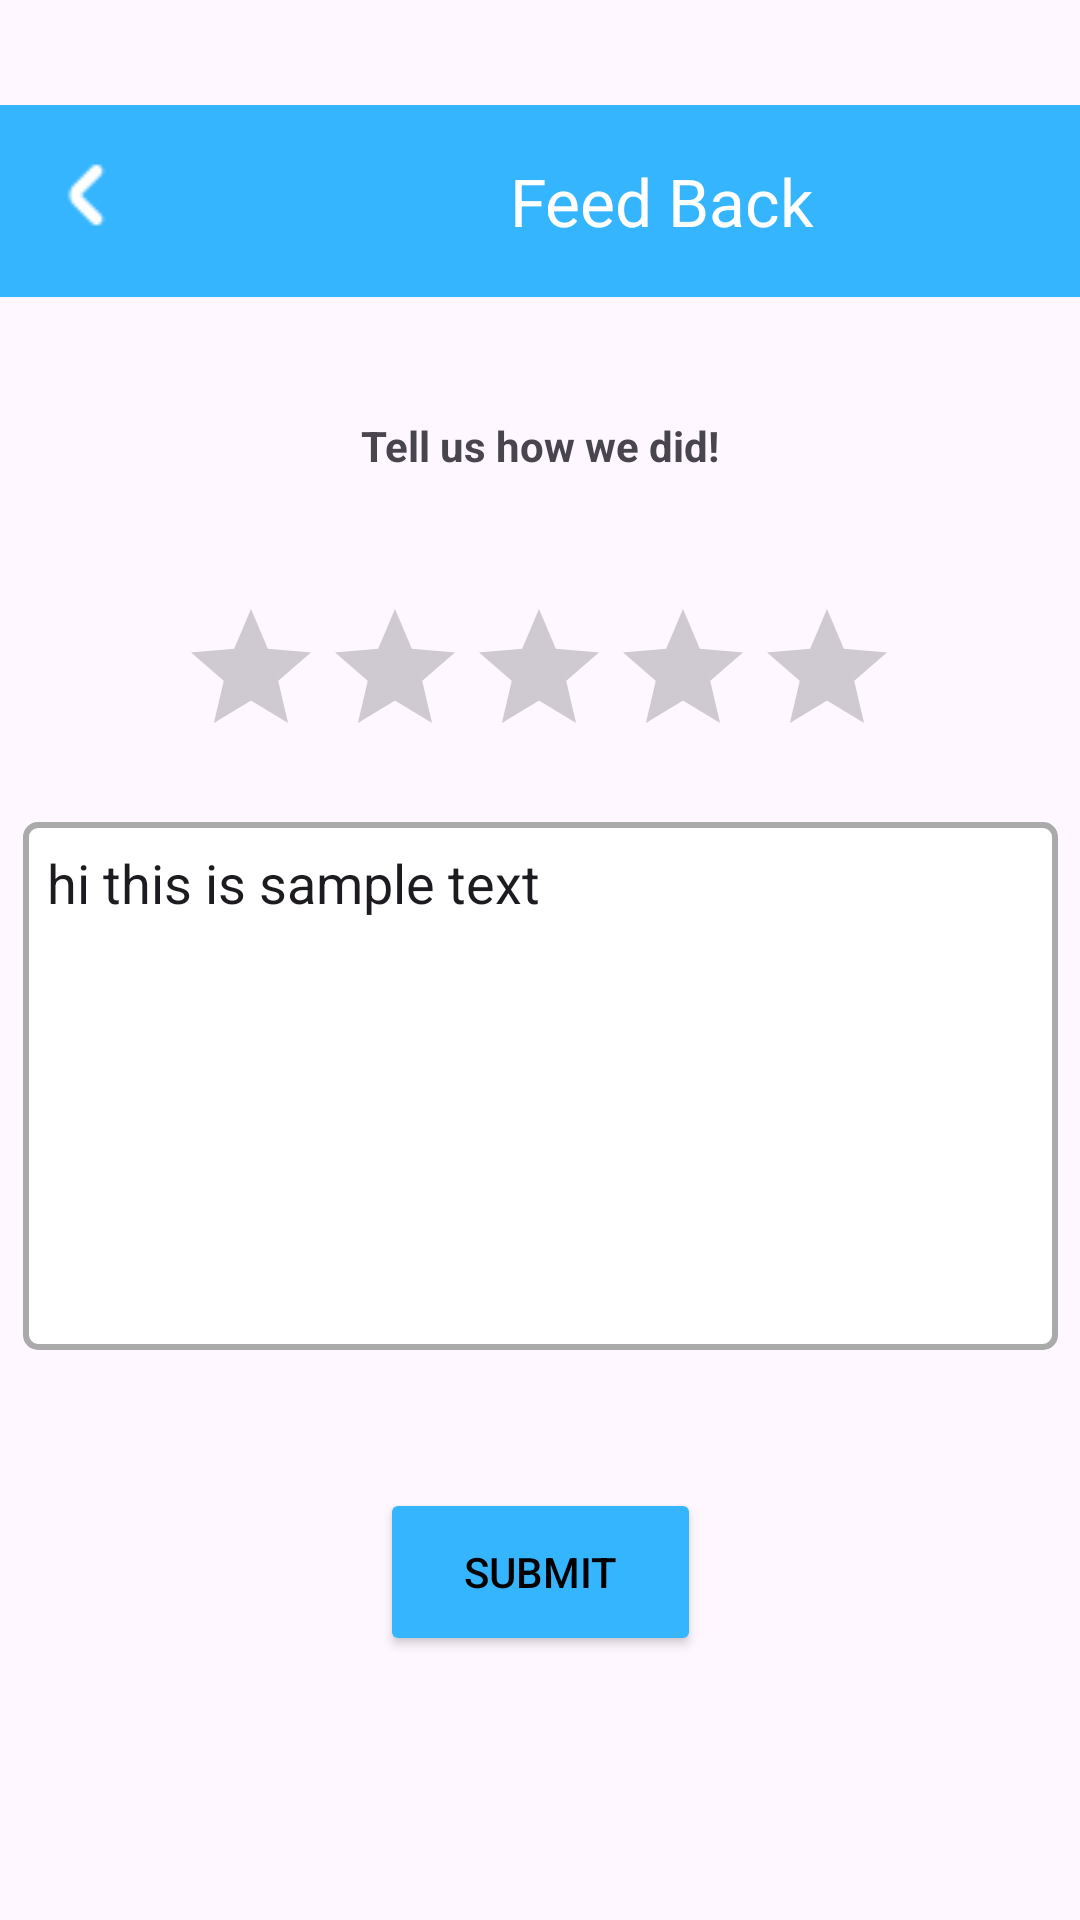

Where icons sit on this 1080×1920 app screen, as {"x1": x1, "y1": y1, "x2": x2, "y2": y2}:
back arrow: {"x1": 68, "y1": 164, "x2": 104, "y2": 226}
